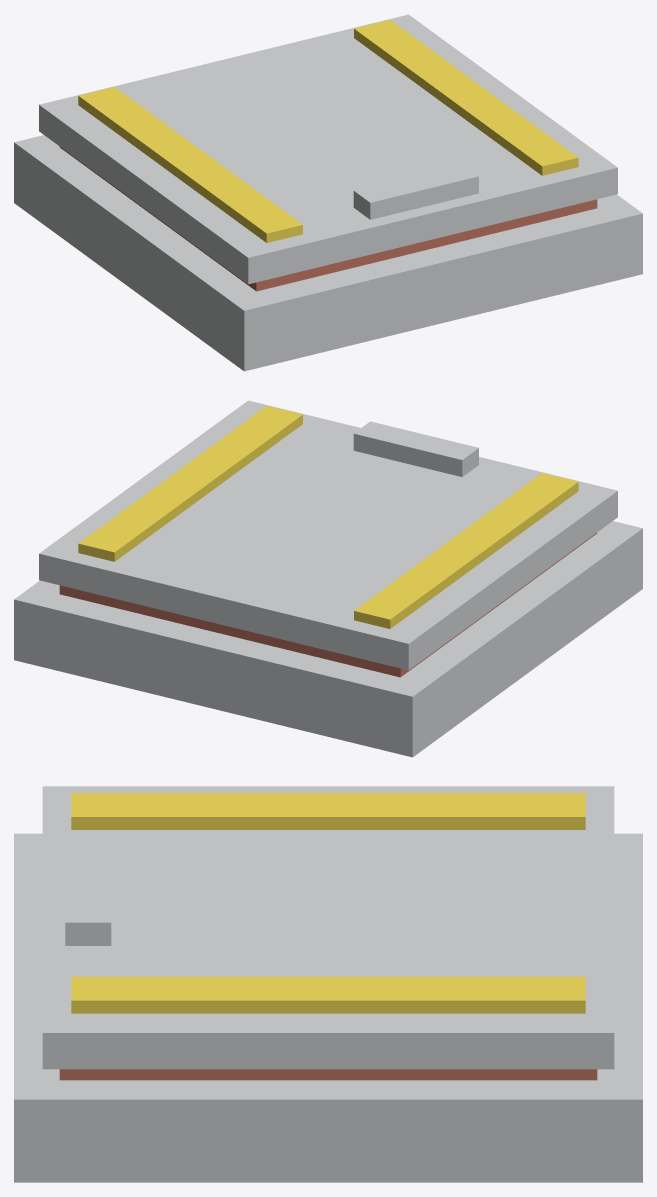
File: fish-market-and-trawler-quay-fish-market-and-trawler-q-554a7c7a__37262.glb
3 renders of one model, top to bottom at view 1: azimuth 30°, elevation 25°; view 2: azimuth 150°, elevation 25°; view 3: azimuth 270°, elevation 25°, orthographic. The views are drawn at different scales.
Parts seen in each view (by area): view 1: hatch-leaf/steel (×2), fish-market-and-trawler-quay-deck-hatch, hatch-leaf/yellow (×2); view 2: hatch-leaf/steel (×2), fish-market-and-trawler-quay-deck-hatch, hatch-leaf/yellow (×2); view 3: hatch-leaf/steel (×2), fish-market-and-trawler-quay-deck-hatch, hatch-leaf/yellow (×2).
Boxes of the visible parts, left/top/right/bottom form: hatch-leaf/steel (×2): left=39, top=14, right=617, bottom=284; fish-market-and-trawler-quay-deck-hatch: left=14, top=135, right=642, bottom=371; hatch-leaf/yellow (×2): left=78, top=20, right=578, bottom=242; hatch-leaf/steel (×2): left=39, top=400, right=617, bottom=670; fish-market-and-trawler-quay-deck-hatch: left=14, top=521, right=642, bottom=757; hatch-leaf/yellow (×2): left=78, top=406, right=578, bottom=628; hatch-leaf/steel (×2): left=42, top=786, right=614, bottom=1069; fish-market-and-trawler-quay-deck-hatch: left=14, top=833, right=642, bottom=1182; hatch-leaf/yellow (×2): left=71, top=793, right=585, bottom=1013.
Size of the model in its own units: 1.1 by 0.315 by 1.1.
